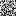crazing: (1, 1, 16, 16)
inclusion: (1, 1, 16, 16)
patches: (1, 1, 16, 16)
pitted_surface: (1, 1, 16, 16)
rolled_in_scale: (1, 1, 16, 16)
scratches: (1, 1, 16, 16)
